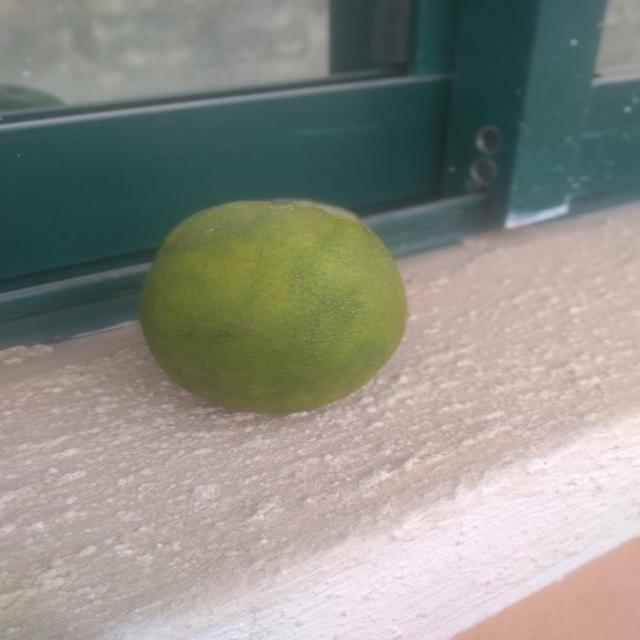Unripe: (160, 190, 418, 437)
